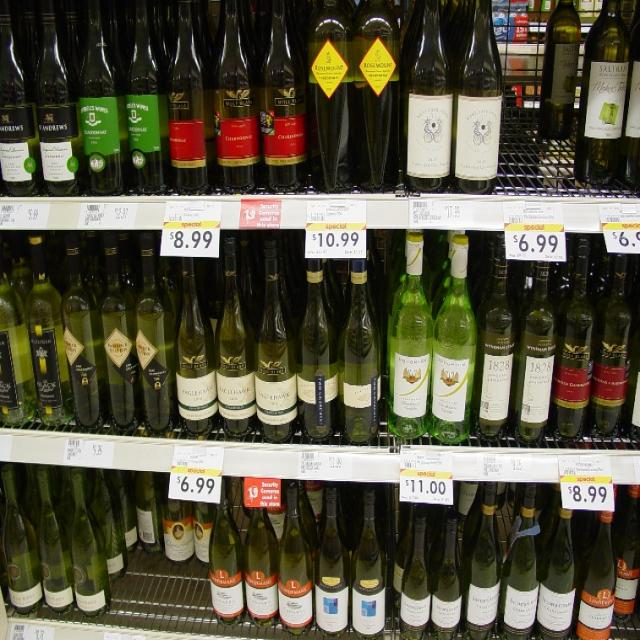q175: (196, 469, 248, 627), (240, 482, 284, 632), (276, 489, 312, 640)
q178: (580, 489, 615, 640), (612, 499, 640, 630)
